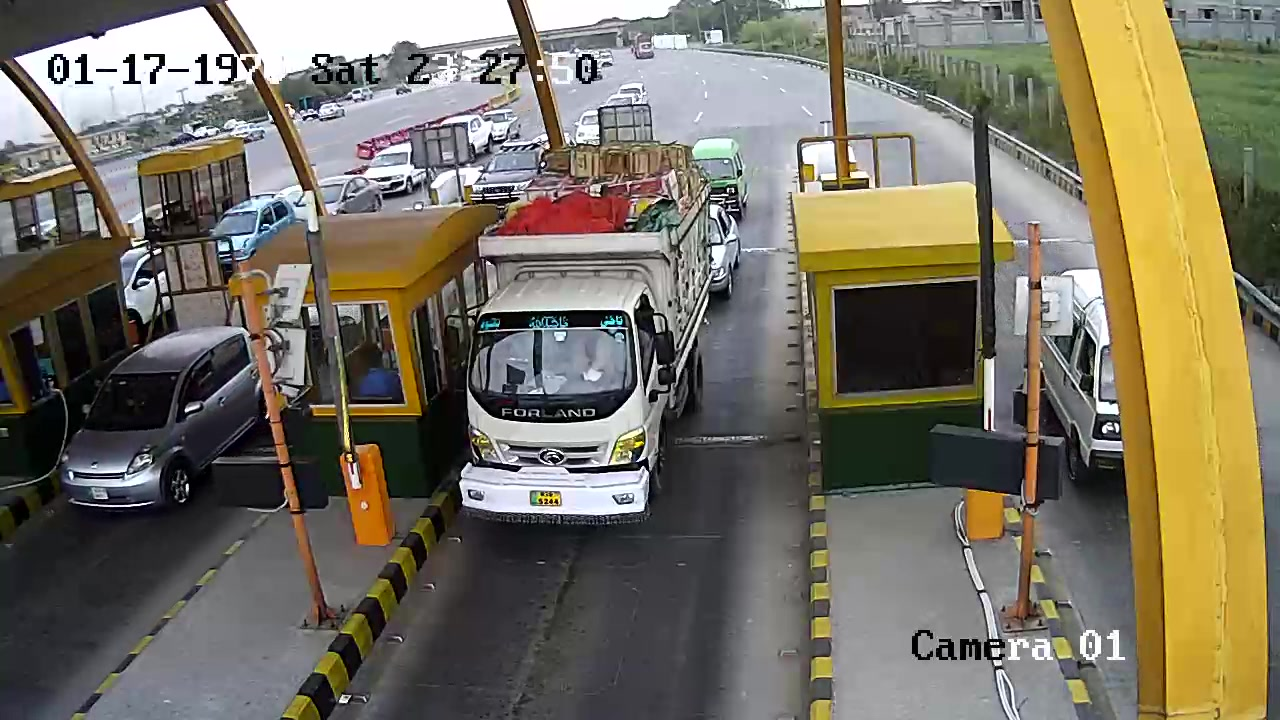F5: (464, 104, 705, 528)
